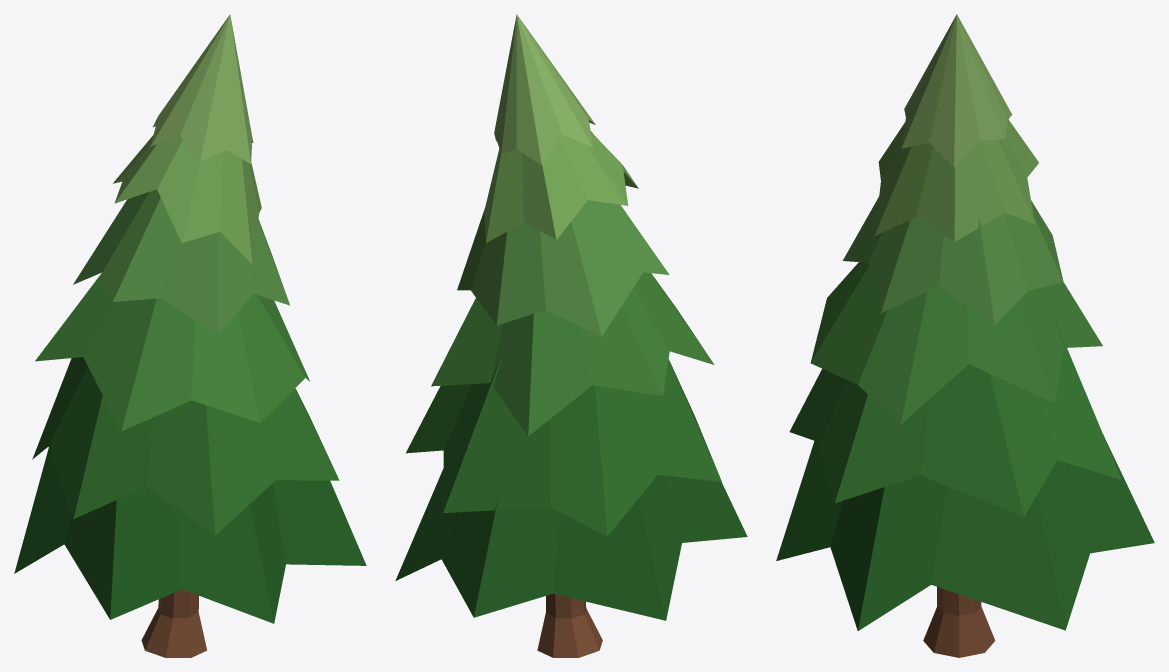
File: M_Tree_Vegetation_0.fbx
3 renders of one model, left to right at view 1: azimuth 30°, elevation 25°; view 2: azimuth 150°, elevation 25°; view 3: azimuth 270°, elevation 25°, orthographic. The views are drawn at different scales.
Parts seen in each view (by area): view 1: M_Tree_Vegetation_0; view 2: M_Tree_Vegetation_0; view 3: M_Tree_Vegetation_0.
Boxes of the visible parts, x1,y1,x2,y2 form: M_Tree_Vegetation_0: (14,14,366,657); M_Tree_Vegetation_0: (395,14,747,657); M_Tree_Vegetation_0: (776,14,1154,657).
Bounding box in the file's own units: 177 × 384 × 201.
